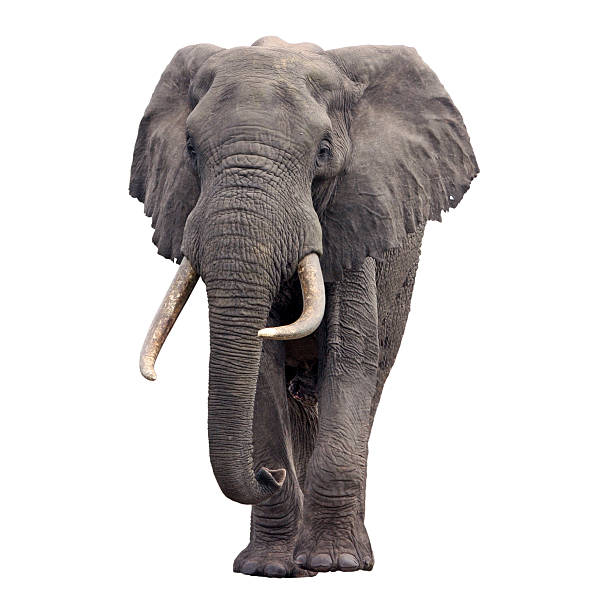africanelephant: (140, 45, 347, 392)
